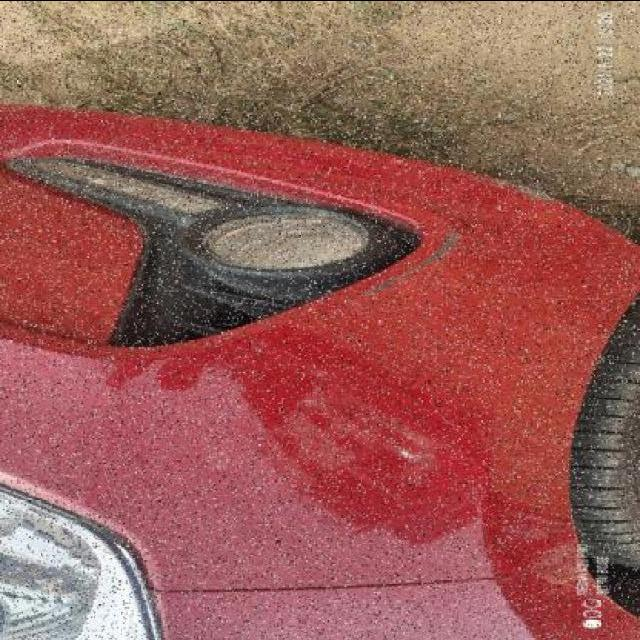front-bumper-dent: (283, 163, 639, 474)
